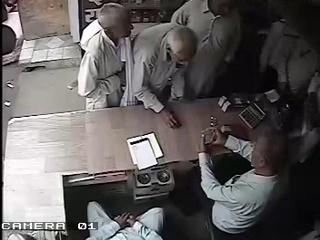Normal: (198, 124, 289, 240), (122, 23, 198, 129), (258, 0, 320, 98), (184, 0, 242, 100), (86, 200, 166, 240)
shoplifting: (77, 2, 134, 111)
